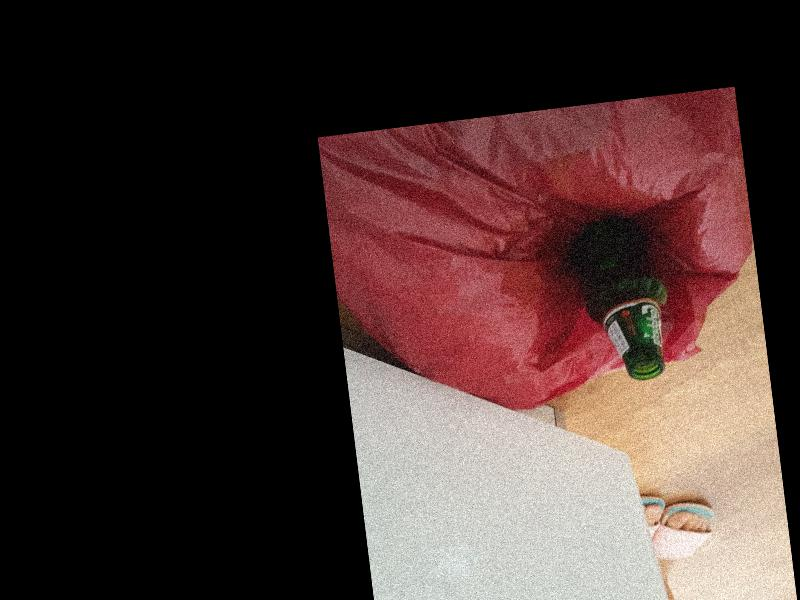Beer: (568, 211, 676, 385)
